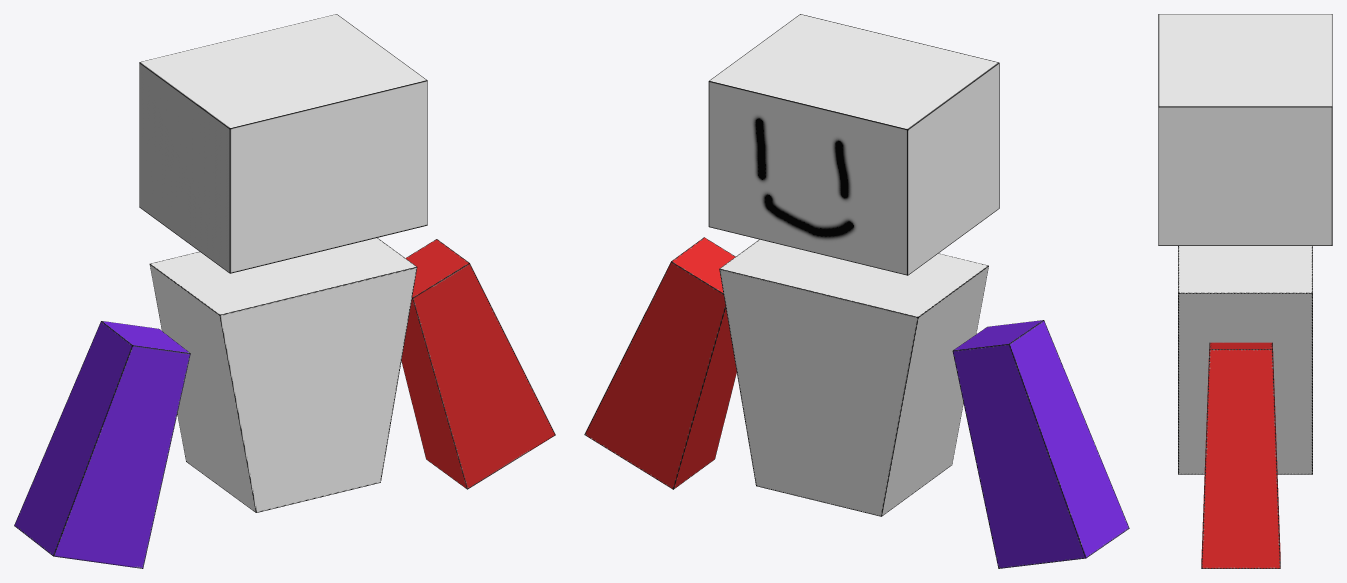
File: player1.obj
The picture shows the model from 3 angles, left to right: view 1: azimuth 30°, elevation 25°; view 2: azimuth 150°, elevation 25°; view 3: azimuth 270°, elevation 25°; orthographic projection. The views are drawn at different scales.
Parts seen in each view (by area): view 1: Cube.001, Cube.002, Cube.004, Cube.003; view 2: Cube.001, Cube.002, Cube.004, Cube.003; view 3: Cube.001, Cube.002, Cube.003.
Part boxes in pixels (<box>): Cube.001: <box>139,14,427,273</box>; Cube.002: <box>149,238,417,512</box>; Cube.004: <box>14,321,190,568</box>; Cube.003: <box>401,239,555,489</box>; Cube.001: <box>708,14,999,275</box>; Cube.002: <box>719,239,988,516</box>; Cube.004: <box>952,320,1129,568</box>; Cube.003: <box>584,237,736,489</box>; Cube.001: <box>1158,14,1332,245</box>; Cube.002: <box>1178,246,1312,474</box>; Cube.003: <box>1201,342,1280,568</box>.
Size of the model in its own units: 5.07 by 4.26 by 1.59.
Materials: 2 (2 with a texture image).
